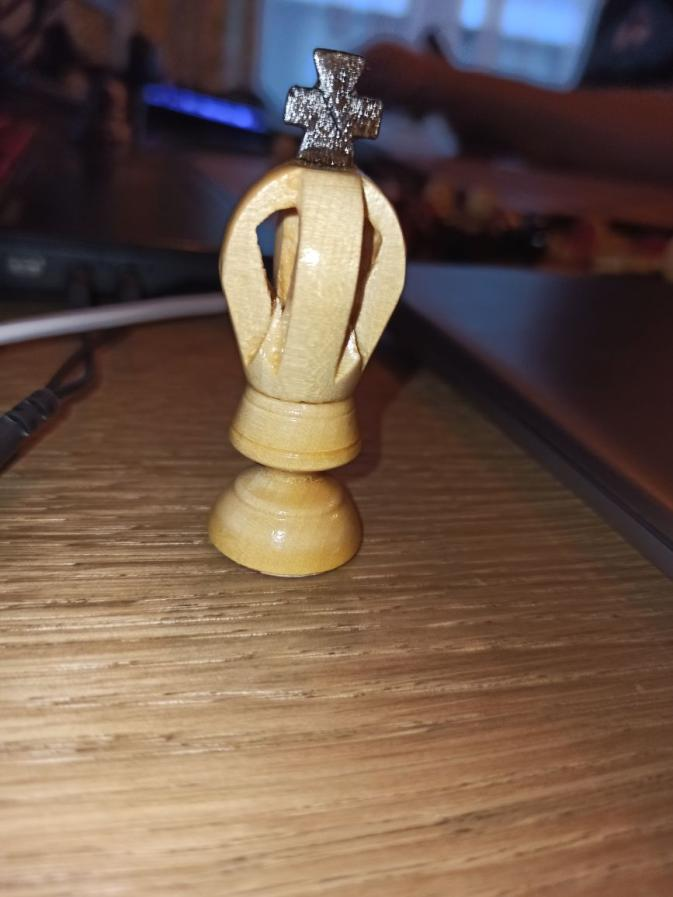wking: (205, 48, 410, 580)
